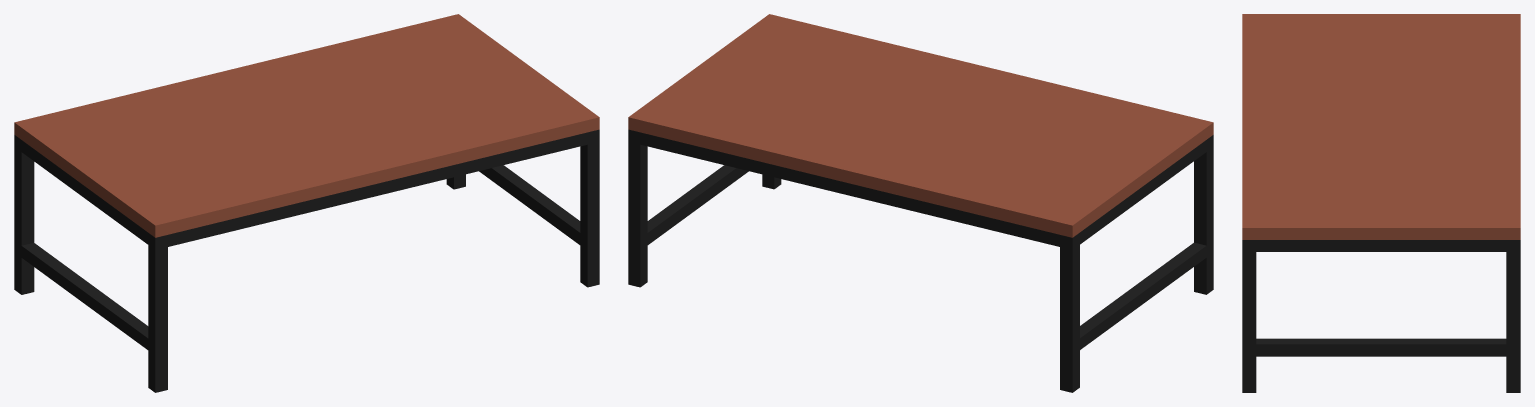
File: coffeeTable1.obj
3 renders of one model, left to right at view 1: azimuth 30°, elevation 25°; view 2: azimuth 150°, elevation 25°; view 3: azimuth 270°, elevation 25°, orthographic.
Visible parts, largest first — view 1: Mesh1 Model; view 2: Mesh1 Model; view 3: Mesh1 Model.
Part boxes in pixels (<box>): Mesh1 Model: <box>14,14,599,392</box>; Mesh1 Model: <box>628,14,1213,392</box>; Mesh1 Model: <box>1242,14,1520,392</box>.
Bounding box in the file's own units: 1 × 0.36 × 0.55.
